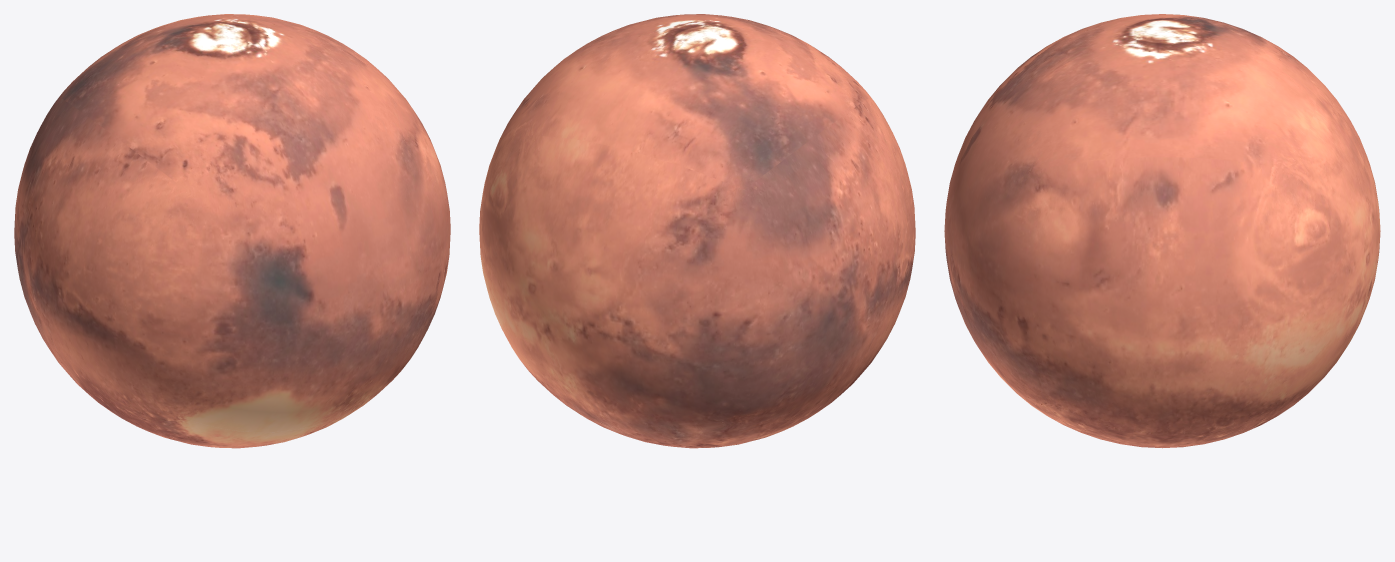
The model's file is Mars.glb.
3 renders of one model, left to right at view 1: azimuth 30°, elevation 25°; view 2: azimuth 150°, elevation 25°; view 3: azimuth 270°, elevation 25°, orthographic.
Parts seen in each view (by area): view 1: Object_4.001; view 2: Object_4.001; view 3: Object_4.001.
Part boxes in pixels (bbox=[...]): Object_4.001: bbox=[14, 14, 450, 448]; Object_4.001: bbox=[479, 14, 915, 448]; Object_4.001: bbox=[944, 14, 1380, 448].
Bounding box in the file's own units: 1.83 × 2.38 × 1.83.
1 material, 1 textured.
